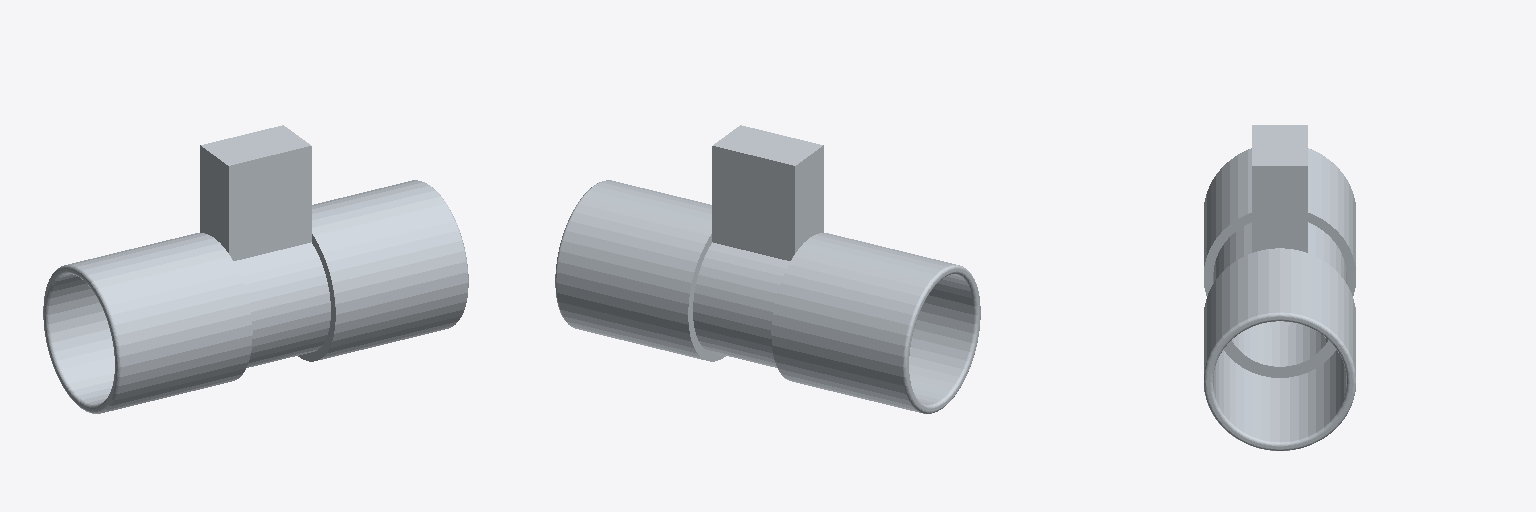
The model's file is fengji-waikuang.obj.
3 views of the same model, side by side, from view 1: azimuth 30°, elevation 25°; view 2: azimuth 150°, elevation 25°; view 3: azimuth 270°, elevation 25° (orthographic).
Parts seen in each view (by area): view 1: tongfeng; view 2: tongfeng; view 3: tongfeng.
Part boxes in pixels (left/top/right/bottom): tongfeng: left=43, top=125, right=468, bottom=413; tongfeng: left=555, top=125, right=980, bottom=413; tongfeng: left=1204, top=125, right=1355, bottom=450.
Size of the model in its own units: 2550 by 1531 by 960.